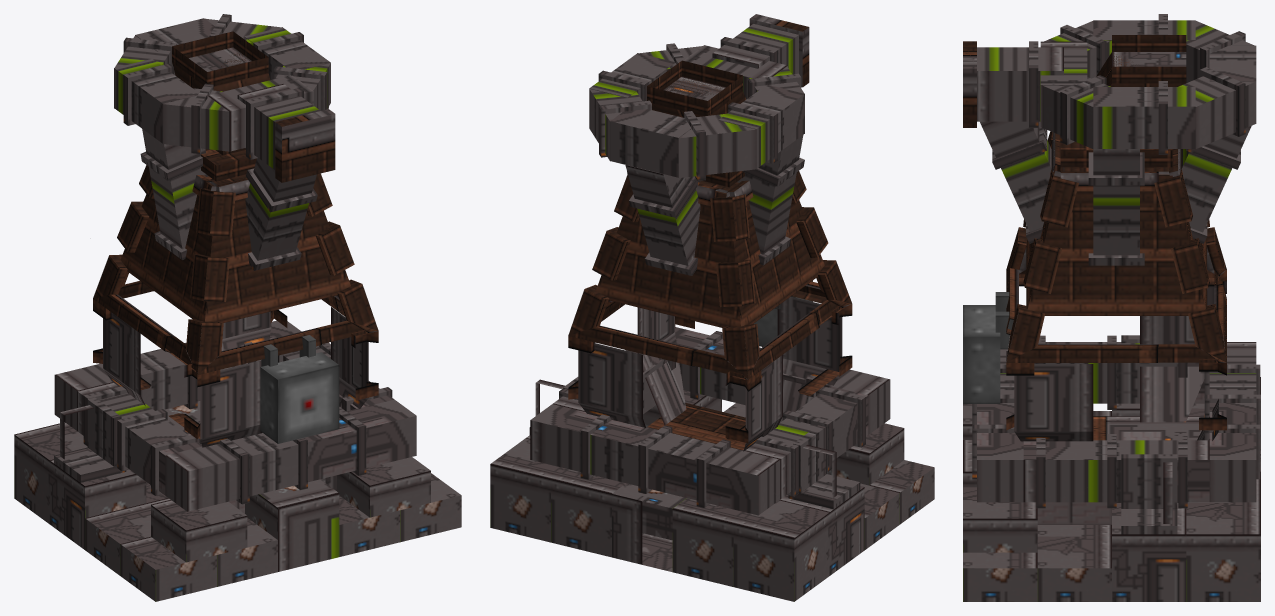
The model's file is elite_blast_furnace.obj.
The picture shows the model from 3 angles, left to right: view 1: azimuth 30°, elevation 25°; view 2: azimuth 150°, elevation 25°; view 3: azimuth 270°, elevation 25°; orthographic projection. The views are drawn at different scales.
Parts seen in each view (by area): view 1: mesh; view 2: mesh; view 3: mesh.
Boxes of the visible parts, bbox=[...] form: mesh: bbox=[14, 14, 461, 601]; mesh: bbox=[490, 14, 934, 601]; mesh: bbox=[963, 14, 1260, 601].
Bounding box in the file's own units: 5 × 7 × 4.
